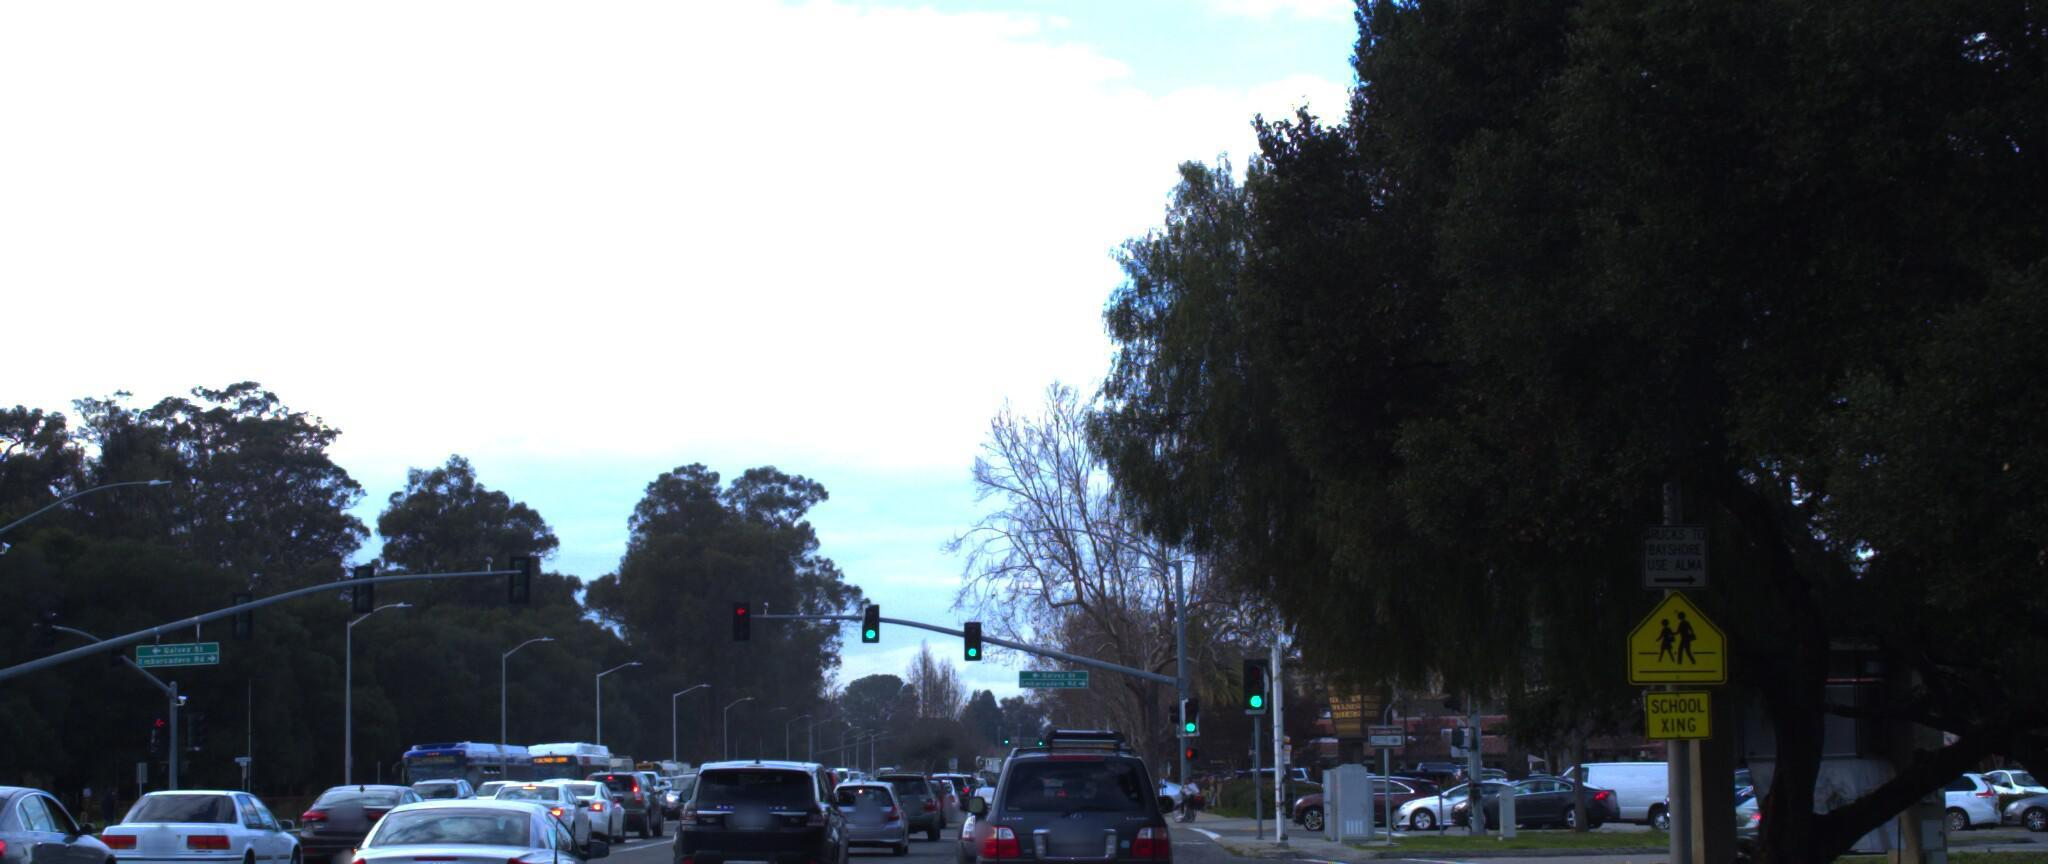car: (984, 707, 1189, 864), (308, 780, 628, 864), (95, 760, 319, 864), (680, 735, 859, 864), (289, 765, 453, 863), (0, 764, 155, 864), (923, 771, 1048, 864), (1433, 756, 1621, 814), (477, 762, 598, 841), (526, 761, 637, 829), (829, 764, 920, 841), (576, 753, 673, 824), (871, 749, 953, 824)
